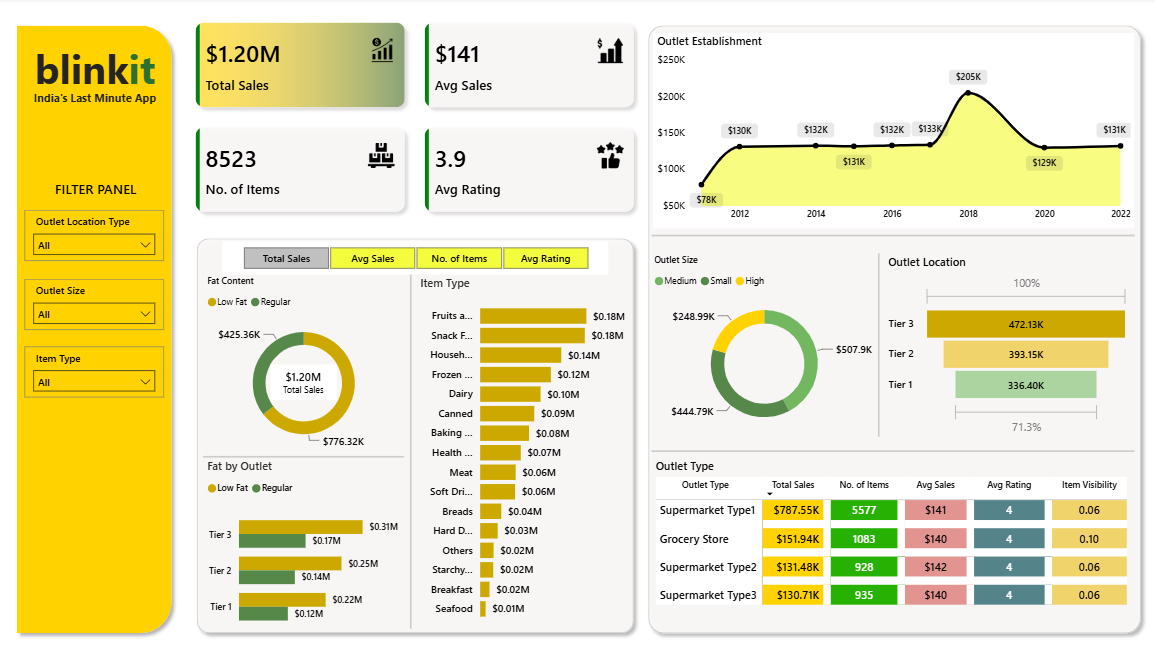

What the dashboard file says about the page in this screenshot:
{"tool":"powerbi","page":{"name":"Page 1","canvas":[1400,800],"ordinal":0},"visuals":[{"type":"shape","box":[16.3,25.3,204.2,750],"z":0},{"type":"textbox","box":[39.8,47,159,77.7],"z":1000},{"type":"textbox","box":[30.7,106.6,177.1,36.1],"z":2000},{"type":"cardVisual","fields":{"Data":["BlinkIT Grocery Data.Total Sales","BlinkIT Grocery Data.Avg Sales","BlinkIT Grocery Data.No. of Items","BlinkIT Grocery Data.Avg Rating"]},"box":[220.3,11.6,569.7,270],"z":3000},{"type":"shape","box":[233.1,281.9,544,493.4],"z":4000},{"type":"donutChart","title":"Fat Content","fields":{"Y":["BlinkIT Grocery Data.Total Sales"],"Category":["BlinkIT Grocery Data.Item Fat Content"]},"box":[249.4,334.3,242.2,220.5],"z":5000},{"type":"slicer","fields":{"Values":["Metrics.Metrics"]},"box":[272.9,294.6,464.5,39.8],"z":6000},{"type":"cardVisual","fields":{"Data":["BlinkIT Grocery Data.Total Sales"]},"box":[326,437,90,53],"z":7000},{"type":"clusteredBarChart","title":"Fat by Outlet","fields":{"Y":["BlinkIT Grocery Data.Total Sales"],"Category":["BlinkIT Grocery Data.Outlet Location Type"],"Series":["BlinkIT Grocery Data.Item Fat Content"]},"box":[249.4,554.8,242.2,220.5],"z":8000},{"type":"shape","box":[789.8,262.1,581.9,16.3],"z":9000},{"type":"shape","box":[493.4,334.3,12.7,426.5],"z":10000},{"type":"barChart","title":"Item Type","fields":{"Y":["BlinkIT Grocery Data.Total Sales"],"Category":["BlinkIT Grocery Data.Item Type"]},"box":[506,334.3,256.6,426.5],"z":11000},{"type":"shape","box":[776.7,24.8,611.1,750.2],"z":12000},{"type":"lineChart","title":"Outlet Establishment","fields":{"Category":["BlinkIT Grocery Data.Outlet Establishment Year"],"Y":["BlinkIT Grocery Data.Total Sales"]},"box":[791.7,43,580,235],"z":13000},{"type":"shape","box":[249.4,544,242.2,19.9],"z":14000},{"type":"donutChart","title":"Outlet Size","fields":{"Y":["BlinkIT Grocery Data.Total Sales"],"Category":["BlinkIT Grocery Data.Outlet Size"]},"box":[788.6,308.5,274.7,224.1],"z":15000},{"type":"shape","box":[789.8,280.1,581.9,14.5],"z":16000},{"type":"shape","box":[1057.8,308.5,12.7,220.5],"z":17000},{"type":"funnel","title":"Outlet Location","fields":{"Category":["BlinkIT Grocery Data.Outlet Location Type"],"Y":["Sum(BlinkIT Grocery Data.Sales)"]},"box":[1070.5,308.5,300,224.1],"z":18000},{"type":"shape","box":[790,540,581.8,13.6],"z":19000},{"type":"pivotTable","title":"Outlet Type","fields":{"Rows":["BlinkIT Grocery Data.Outlet Type"],"Values":["BlinkIT Grocery Data.Total Sales","BlinkIT Grocery Data.No. of Items","BlinkIT Grocery Data.Avg Sales","BlinkIT Grocery Data.Avg Rating","Avg(BlinkIT Grocery Data.Item Visibility)"]},"box":[790,555.5,580,192.7],"z":20000},{"type":"slicer","fields":{"Values":["BlinkIT Grocery Data.Outlet Location Type"]},"box":[34.3,256.6,168.1,61.4],"z":21000},{"type":"slicer","fields":{"Values":["BlinkIT Grocery Data.Outlet Size"]},"box":[34.3,339.8,168.1,61.4],"z":22000},{"type":"slicer","fields":{"Values":["BlinkIT Grocery Data.Item Type"]},"box":[34.3,421.1,168.1,61.4],"z":23000},{"type":"textbox","box":[56,215,128.3,34.3],"z":24000}]}

Visuals, with their boxes in screenshot pixels (x1, y1, x2, y2), scaled from the page's 1400x800 canvas onto the 1155x654 screenshot:
shape: box=[13, 21, 182, 634]
textbox: box=[33, 38, 164, 102]
textbox: box=[25, 87, 171, 117]
cardVisual - BlinkIT Grocery Data.Total Sales x BlinkIT Grocery Data.Avg Sales: box=[182, 9, 652, 230]
shape: box=[192, 230, 641, 634]
"Fat Content" donutChart: box=[206, 273, 406, 454]
slicer - Metrics.Metrics: box=[225, 241, 608, 273]
cardVisual - BlinkIT Grocery Data.Total Sales: box=[269, 357, 343, 401]
"Fat by Outlet" clusteredBarChart: box=[206, 454, 406, 634]
shape: box=[652, 214, 1132, 228]
shape: box=[407, 273, 418, 622]
"Item Type" barChart: box=[417, 273, 629, 622]
shape: box=[641, 20, 1145, 634]
"Outlet Establishment" lineChart: box=[653, 35, 1132, 227]
shape: box=[206, 445, 406, 461]
"Outlet Size" donutChart: box=[651, 252, 877, 435]
shape: box=[652, 229, 1132, 241]
shape: box=[873, 252, 883, 432]
"Outlet Location" funnel: box=[883, 252, 1131, 435]
shape: box=[652, 441, 1132, 453]
"Outlet Type" pivotTable: box=[652, 454, 1130, 612]
slicer - BlinkIT Grocery Data.Outlet Location Type: box=[28, 210, 167, 260]
slicer - BlinkIT Grocery Data.Outlet Size: box=[28, 278, 167, 328]
slicer - BlinkIT Grocery Data.Item Type: box=[28, 344, 167, 394]
textbox: box=[46, 176, 152, 204]
